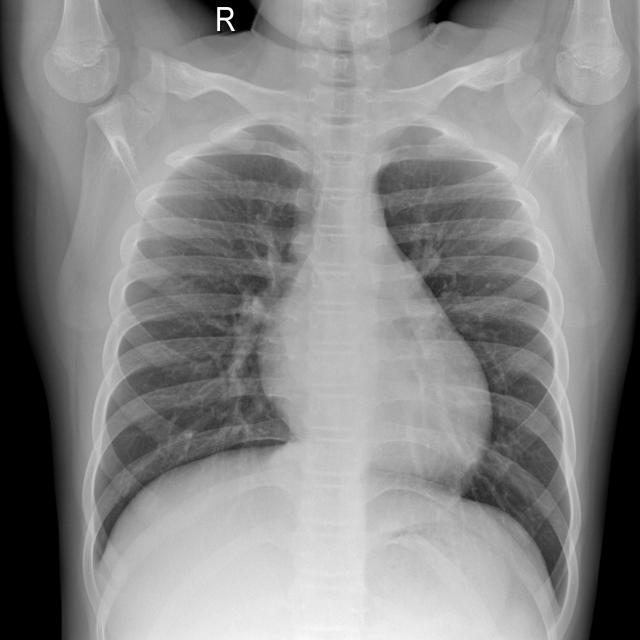no-pneumonia: (94, 136, 317, 560), (377, 127, 573, 601)
